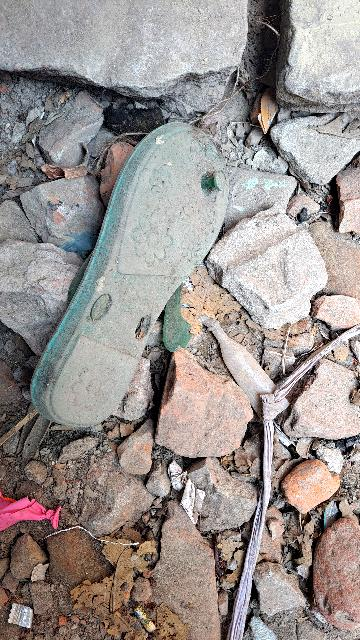sandal: (21, 107, 252, 450)
